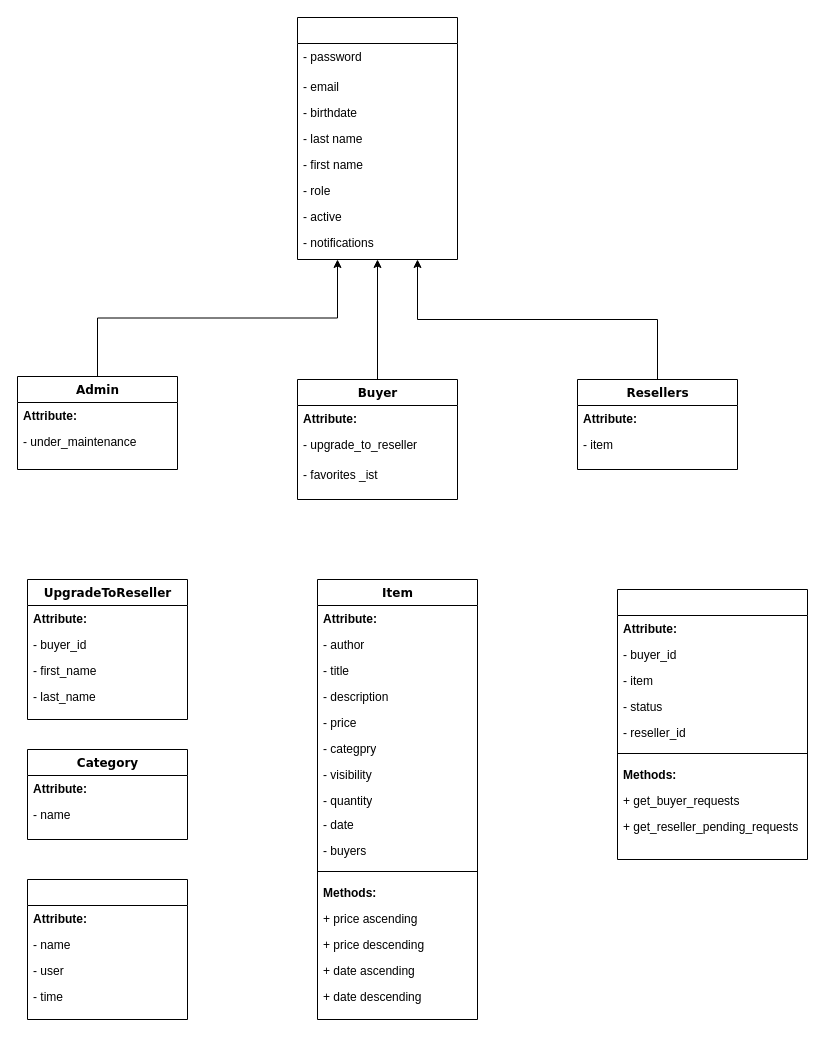
Image size: 825x1037. Some labels were removed from this diagram. The box of each missing label's shape, as (x1, y1, x2, y2) in pixels:
BuyRequest: (616, 588, 808, 860)
RequestedCategory: (26, 878, 188, 1020)
User: (296, 16, 458, 260)
